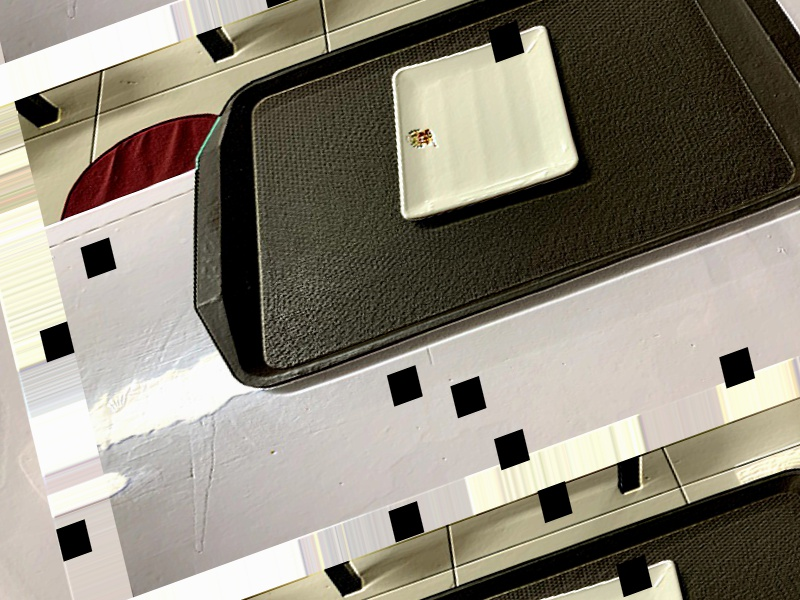dish4: (361, 8, 592, 242)
